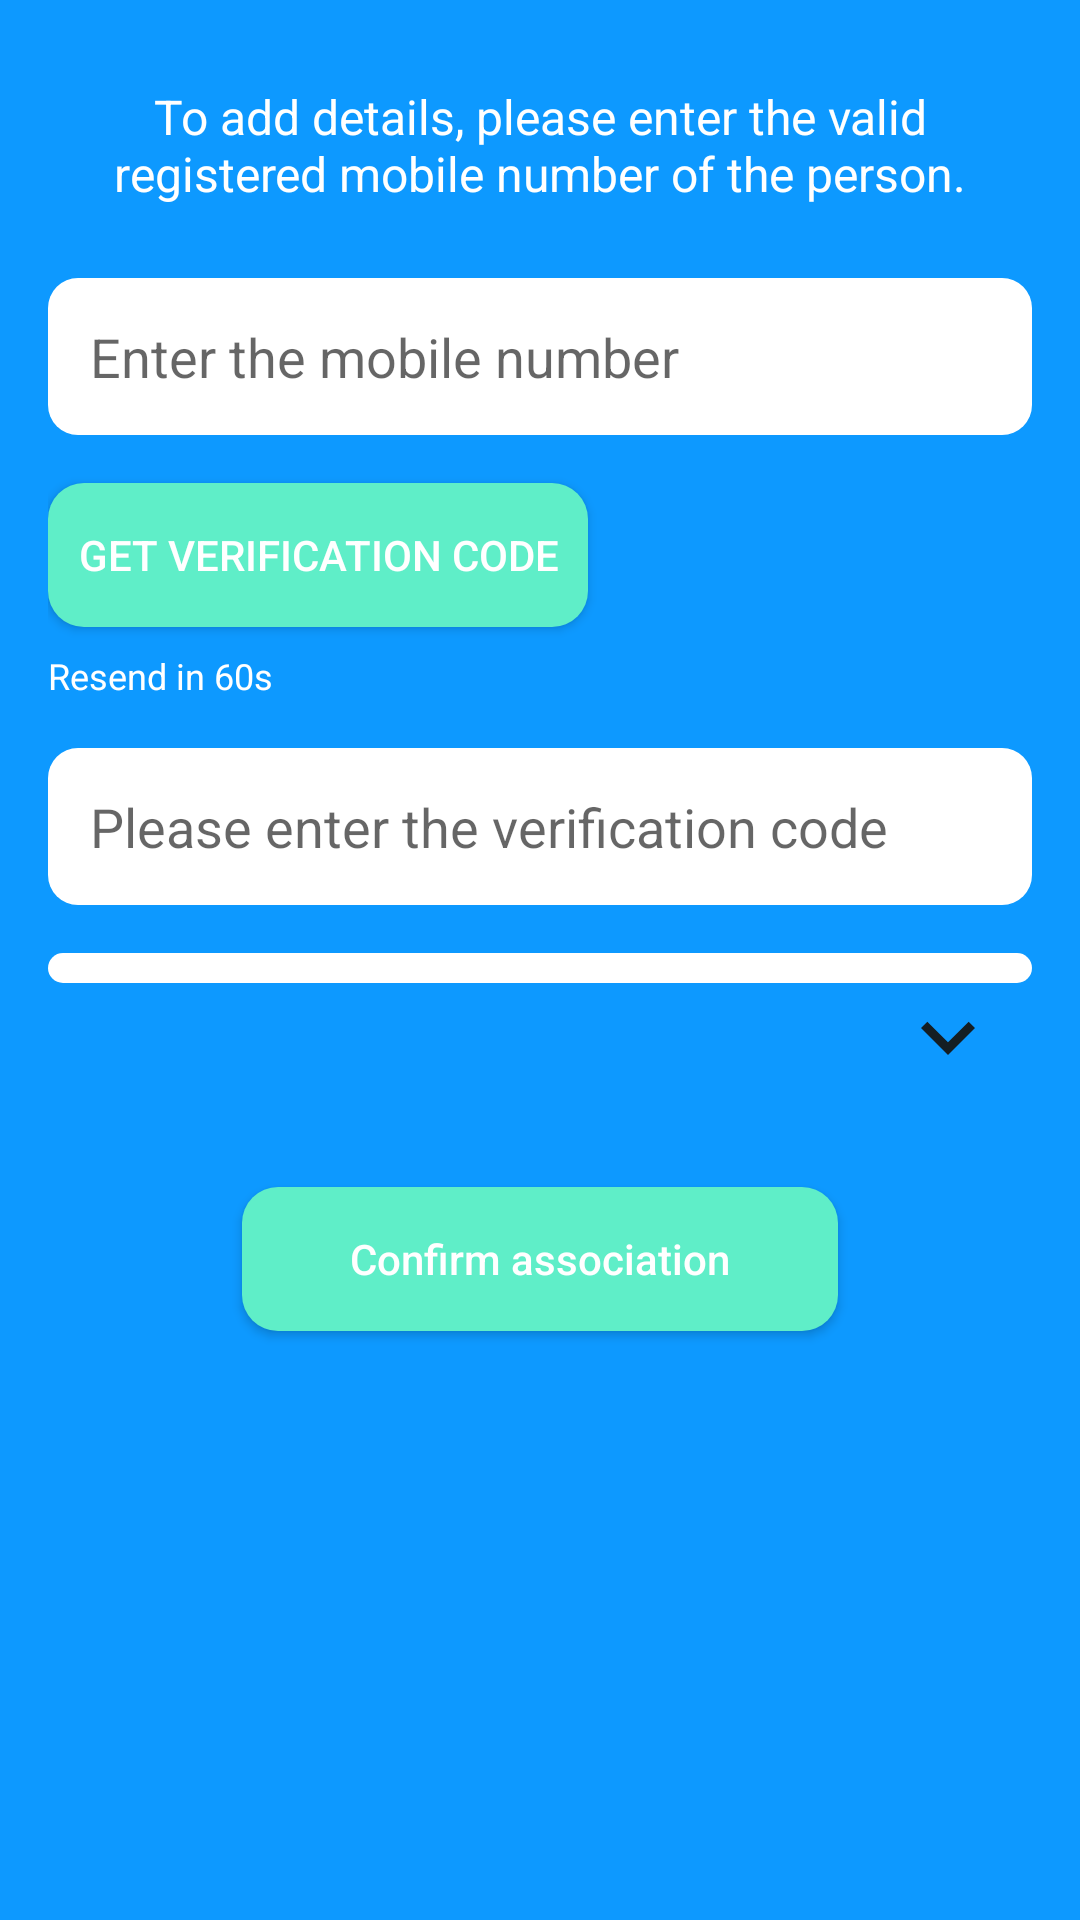

Named icons in this screenshot (1080 x 1920) and their bounding boxes, (x1=x1, y1=y1, x2=x2, y2=y2):
keyboard arrow down: (x1=921, y1=1022, x2=975, y2=1055)
